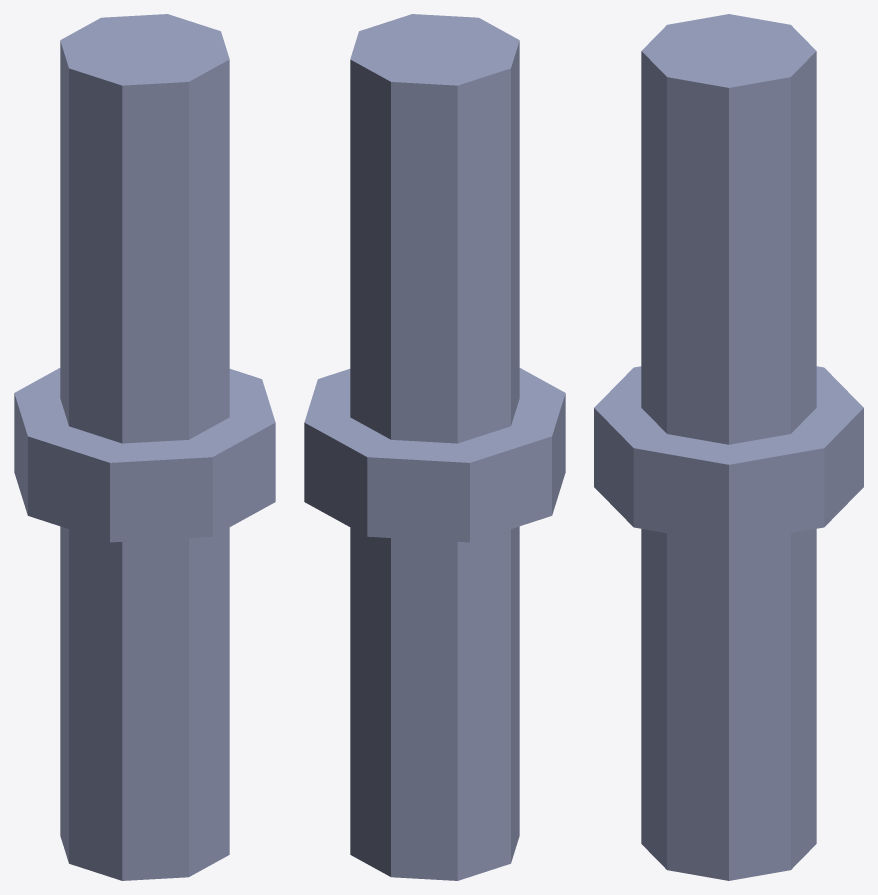
The model's file is gutter-vertical-short.obj.
3 views of the same model, side by side, from view 1: azimuth 30°, elevation 25°; view 2: azimuth 150°, elevation 25°; view 3: azimuth 270°, elevation 25° (orthographic).
Bounding box in the file's own units: 0.3082 × 1 × 0.3082.
